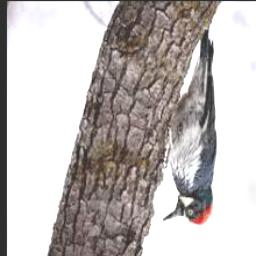Woodpecker: (162, 28, 216, 226)
